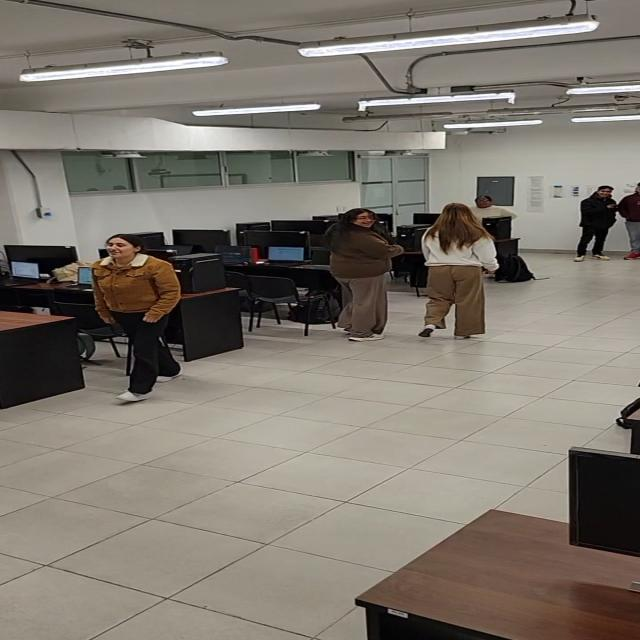Persona: (90, 234, 185, 402), (320, 207, 405, 341), (417, 202, 499, 340), (574, 184, 619, 262)
